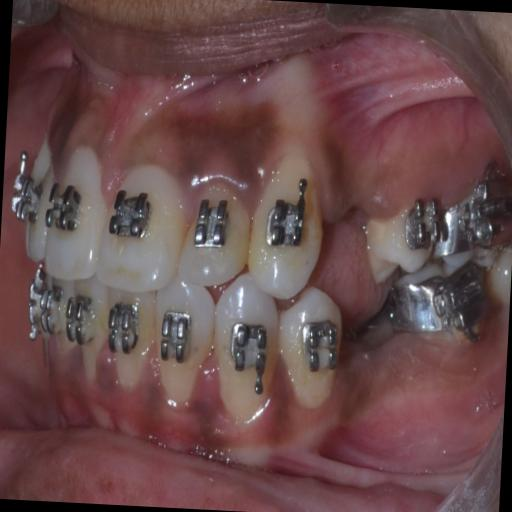correct_brace: (278, 284, 346, 410), (266, 178, 312, 258), (228, 320, 271, 398), (298, 310, 339, 382), (108, 183, 154, 245), (46, 174, 85, 238), (193, 196, 230, 254), (159, 304, 190, 370)
incorrect_brace: (178, 176, 250, 290), (152, 276, 214, 406)
